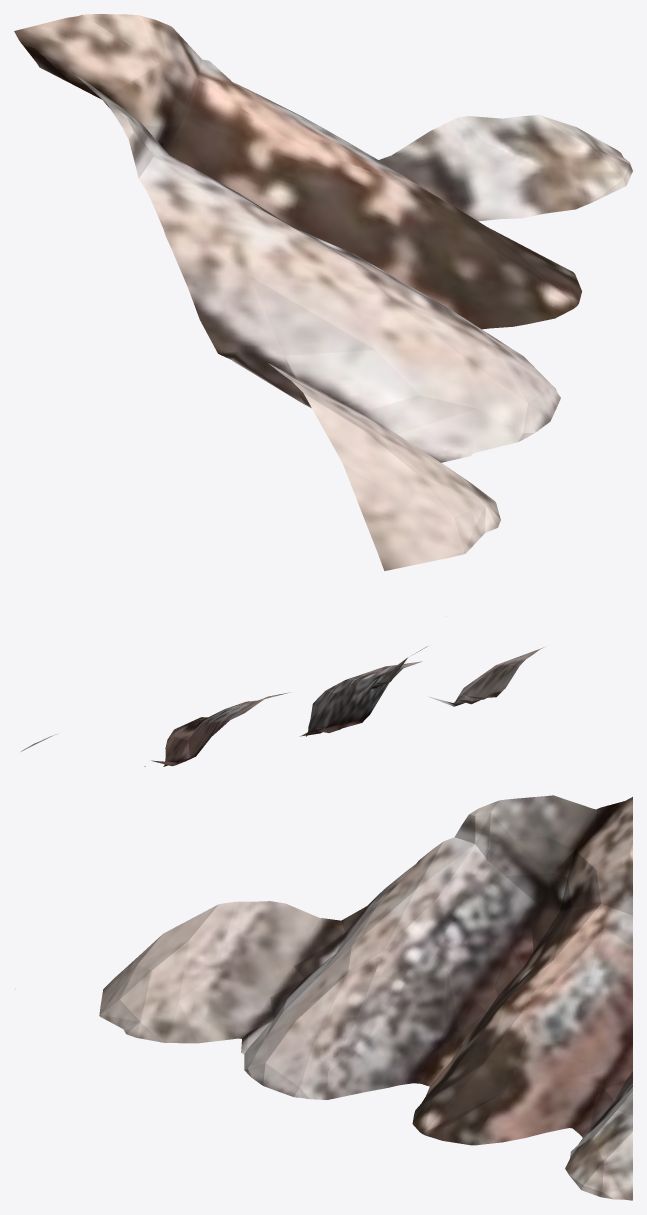
The picture shows the model from 3 angles, top to bottom: view 1: azimuth 30°, elevation 25°; view 2: azimuth 150°, elevation 25°; view 3: azimuth 270°, elevation 25°; orthographic projection. The views are drawn at different scales.
Size of the model in its own units: 0.5153 by 0.22 by 0.6373.
1 material, 1 textured.
